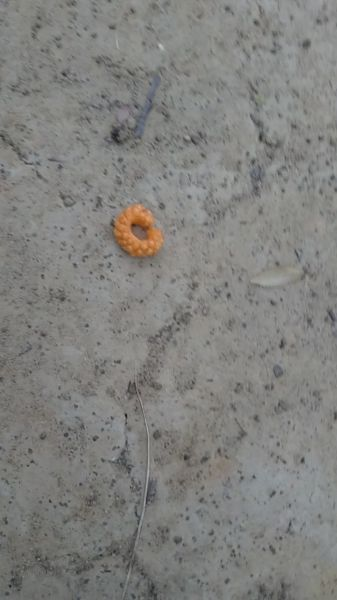eggs: (116, 199, 163, 263)
